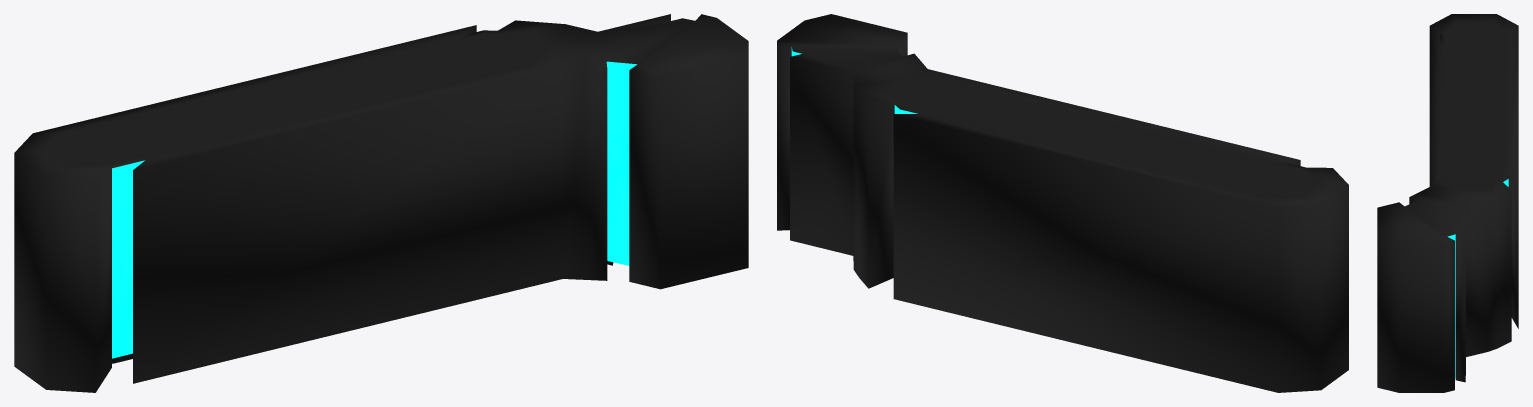
The model's file is Buildron-Totem.fbx.
3 renders of one model, left to right at view 1: azimuth 30°, elevation 25°; view 2: azimuth 150°, elevation 25°; view 3: azimuth 270°, elevation 25°, orthographic. The views are drawn at different scales.
Visible parts, largest first — view 1: Totem; view 2: Totem; view 3: Totem.
Part boxes in pixels (left/top/right/bottom): Totem: left=14, top=14, right=748, bottom=392; Totem: left=777, top=14, right=1348, bottom=392; Totem: left=1377, top=14, right=1518, bottom=392.
Size of the model in its own units: 25.41 by 7.8 by 6.62.
